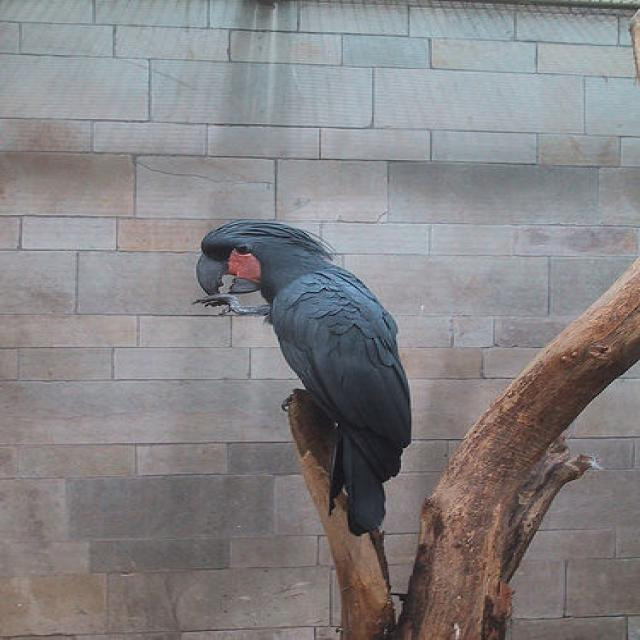bird: (192, 220, 416, 540)
